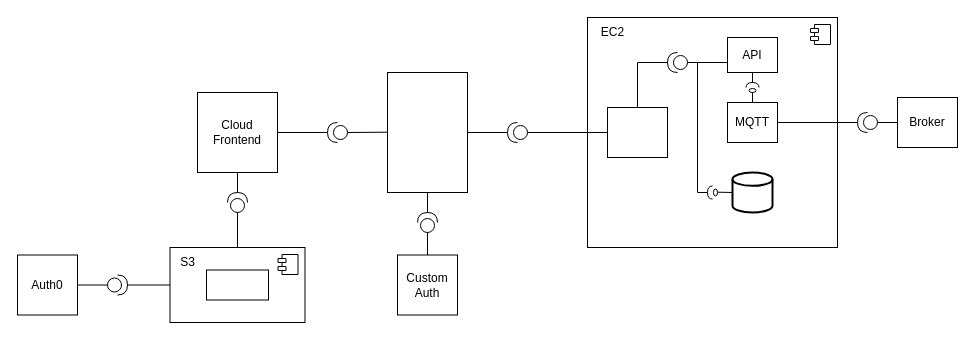
The diagram is 975 pixels wide and 340 high, and some of its shapes have lost their labels. Here are the shapes that lost their labels. From the top down, the centre of each, then its label:
At pixel 427 132: "API Gateway".
At pixel 637 132: "NGIX".
At pixel 237 284: "Frontend".
